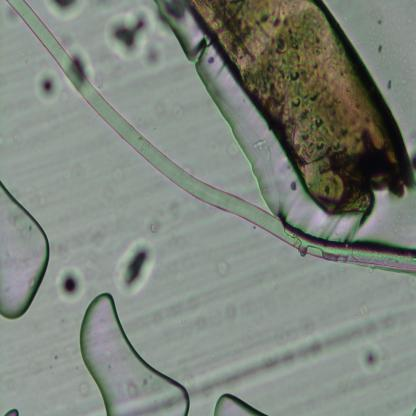Air bubble: (157, 0, 281, 211), (79, 289, 192, 416), (0, 182, 49, 317), (212, 392, 274, 416), (2, 405, 19, 416)
Background material: (191, 0, 416, 205), (233, 327, 358, 380), (102, 0, 164, 62), (106, 238, 159, 293), (358, 303, 394, 341), (38, 0, 94, 23), (56, 264, 88, 304), (34, 66, 66, 105), (72, 45, 94, 85), (358, 344, 380, 374), (211, 252, 230, 279), (374, 40, 385, 53), (382, 79, 392, 93)
Microfibre: (6, 0, 416, 276)
